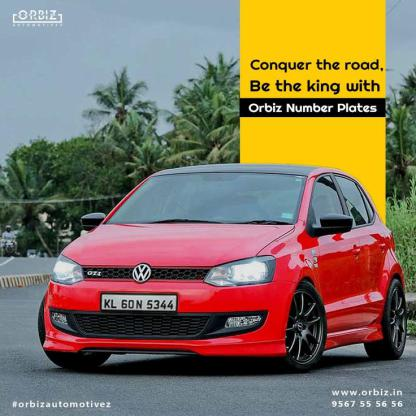license_plate: (99, 294, 176, 311)
